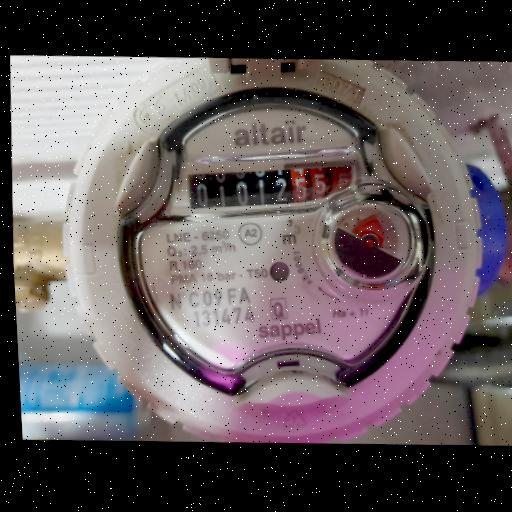0: (226, 169, 254, 207), (187, 172, 214, 209)
1: (247, 169, 273, 206), (209, 171, 232, 209)
2: (268, 167, 295, 204)
5: (288, 166, 314, 203), (307, 165, 333, 201), (329, 164, 354, 196)
border_water_meter_number: (174, 143, 367, 227)
